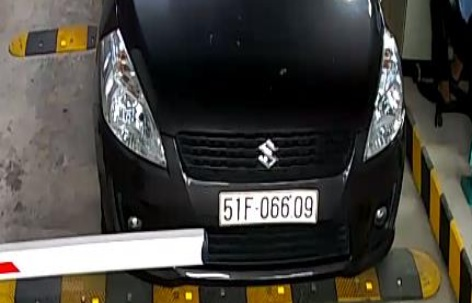plate: (208, 185, 334, 233)
